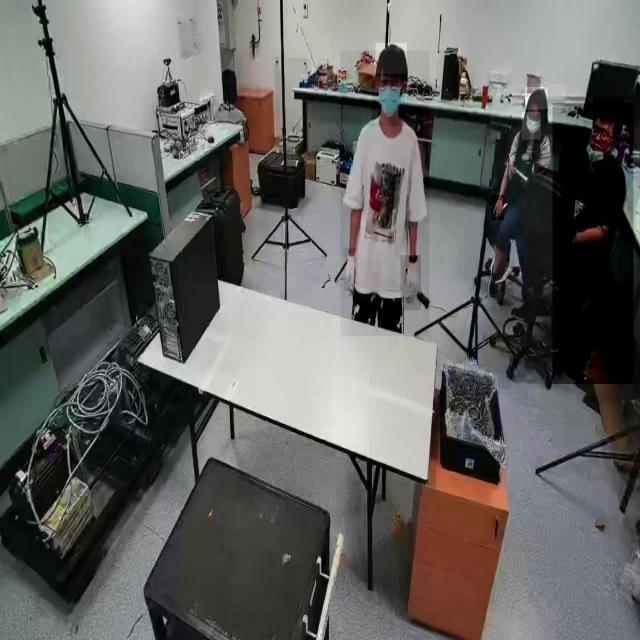gloves: (401, 255, 422, 311), (344, 248, 358, 292)
